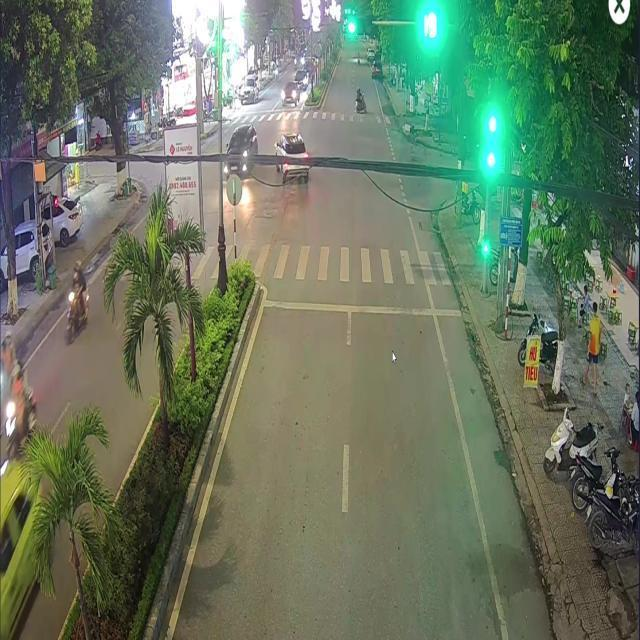car: (275, 134, 309, 183)
green_light: (346, 17, 370, 33), (486, 133, 495, 166), (483, 233, 487, 252)
motobike: (354, 87, 365, 112)
stop_line: (263, 299, 461, 315)
